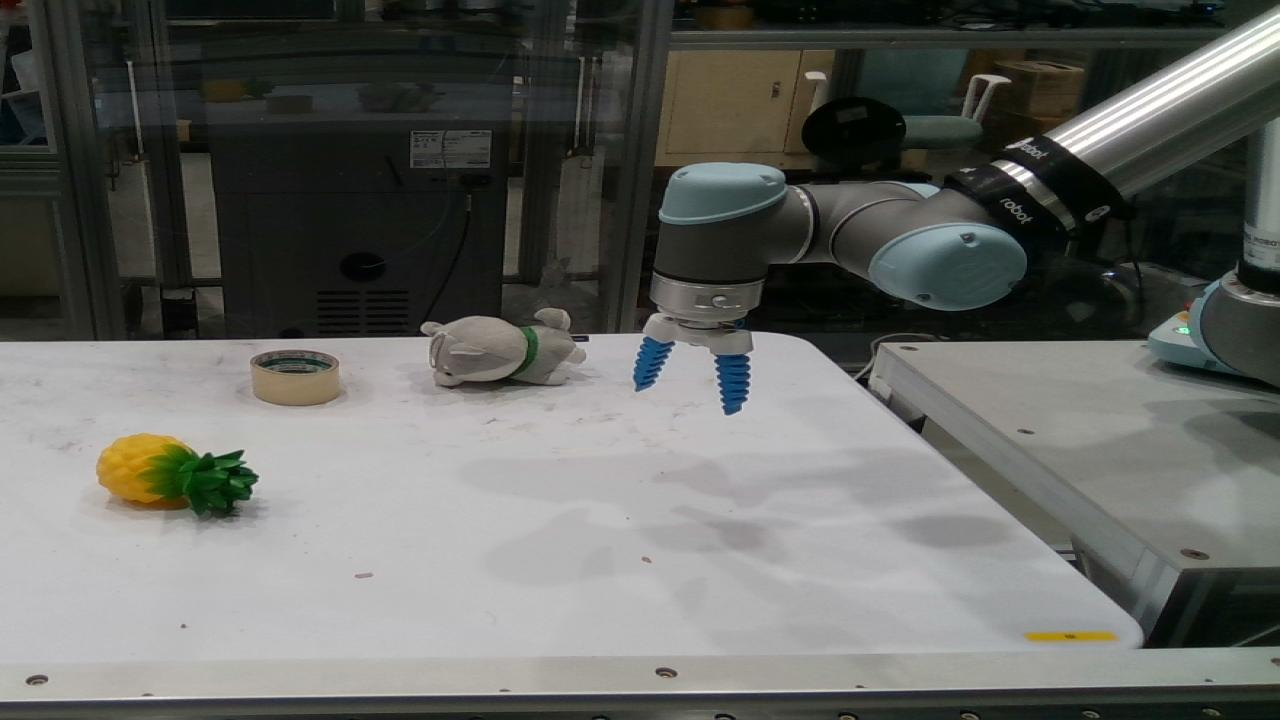UR5: (652, 19, 1276, 380)
gripper_left: (636, 339, 670, 388)
gripper_right: (718, 354, 748, 413)
target: (98, 435, 254, 514), (424, 309, 582, 386), (252, 351, 336, 404)
